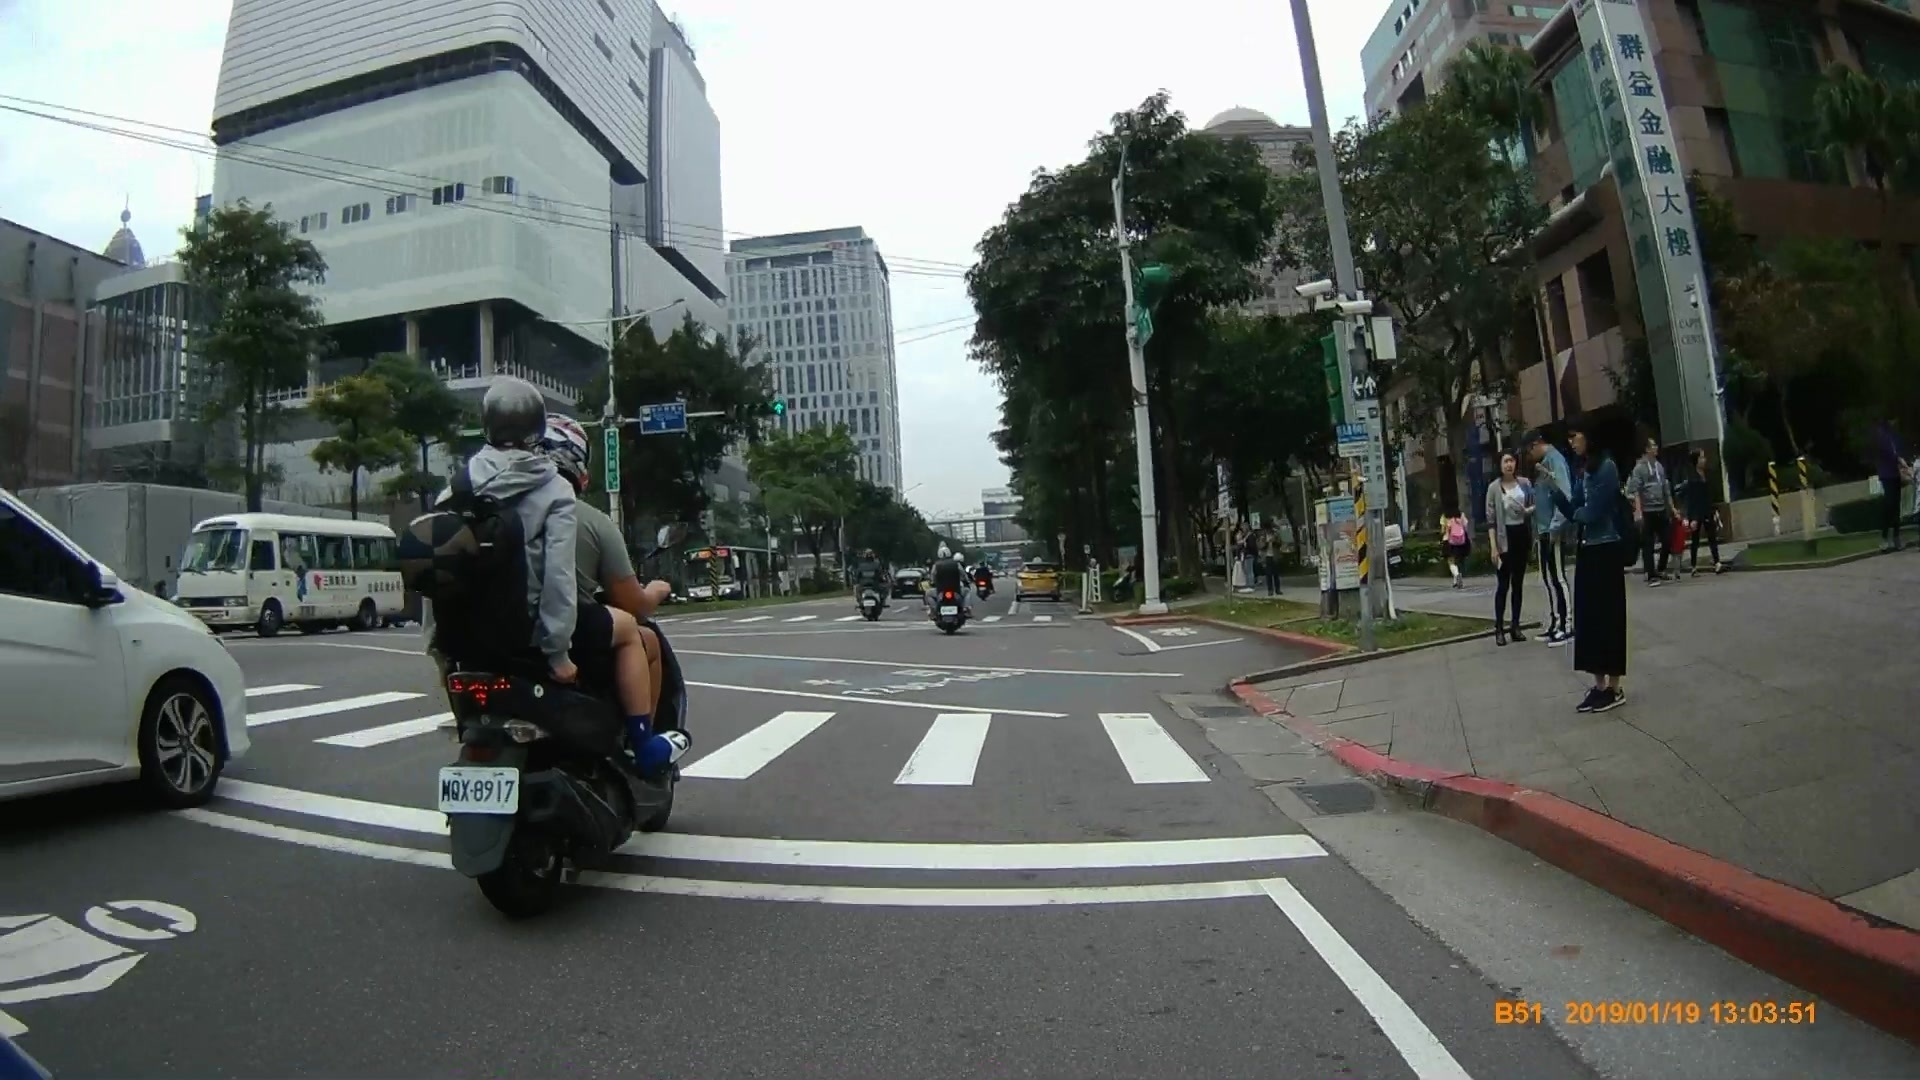License_plate: (438, 763, 522, 815)
